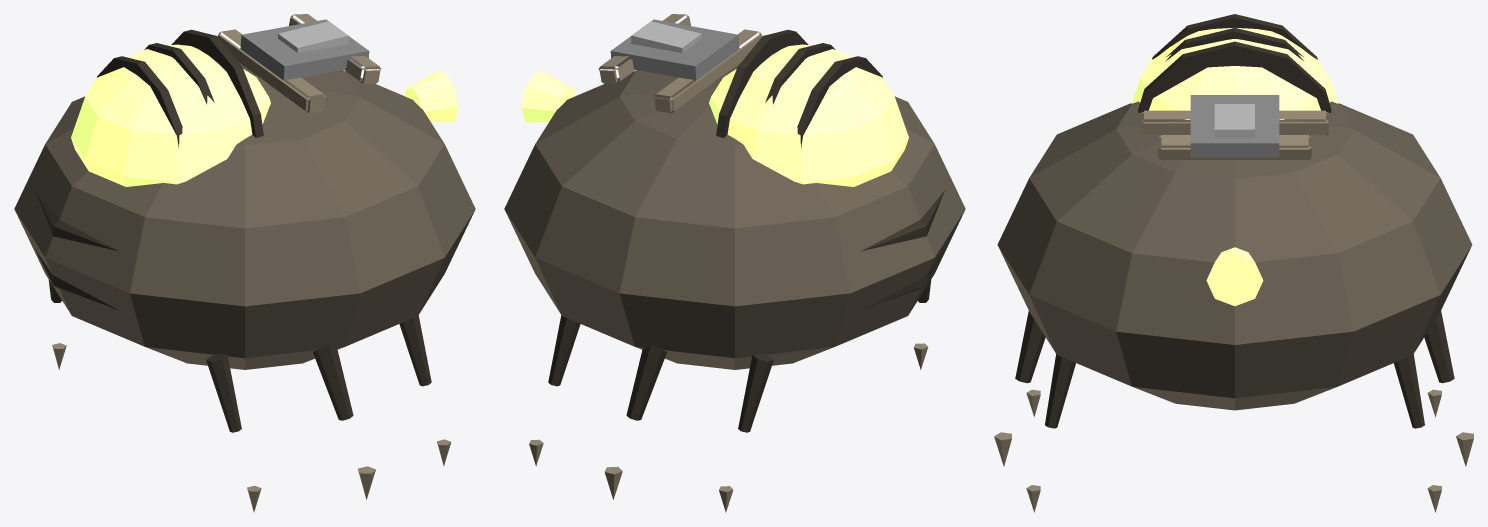
The model's file is bl_spitter.glb.
The picture shows the model from 3 angles, left to right: view 1: azimuth 30°, elevation 25°; view 2: azimuth 150°, elevation 25°; view 3: azimuth 270°, elevation 25°; orthographic projection. The views are drawn at different scales.
Parts seen in each view (by area): view 1: body, leg_3_b, turret, leg_1_a, leg_5_a; view 2: body, leg_2_a, turret, leg_0_b, leg_4_b; view 3: body, turret, leg_3_b, leg_2_a, leg_5_a, leg_4_b.
Boxes of the visible parts, x1,y1,x2,y2 form: body: [14, 14, 475, 369]; leg_3_b: [313, 344, 375, 499]; turret: [404, 72, 458, 122]; leg_1_a: [206, 353, 261, 512]; leg_5_a: [399, 315, 451, 466]; body: [504, 14, 965, 369]; leg_2_a: [604, 344, 666, 499]; turret: [521, 72, 575, 122]; leg_0_b: [719, 353, 773, 512]; leg_4_b: [529, 315, 580, 466]; body: [997, 14, 1472, 410]; turret: [1206, 247, 1263, 306]; leg_3_b: [994, 311, 1045, 466]; leg_2_a: [1424, 311, 1473, 466]; leg_5_a: [1026, 354, 1075, 512]; leg_4_b: [1394, 354, 1441, 512].
Bounding box in the file's own units: 20 × 18.72 × 20.21.
